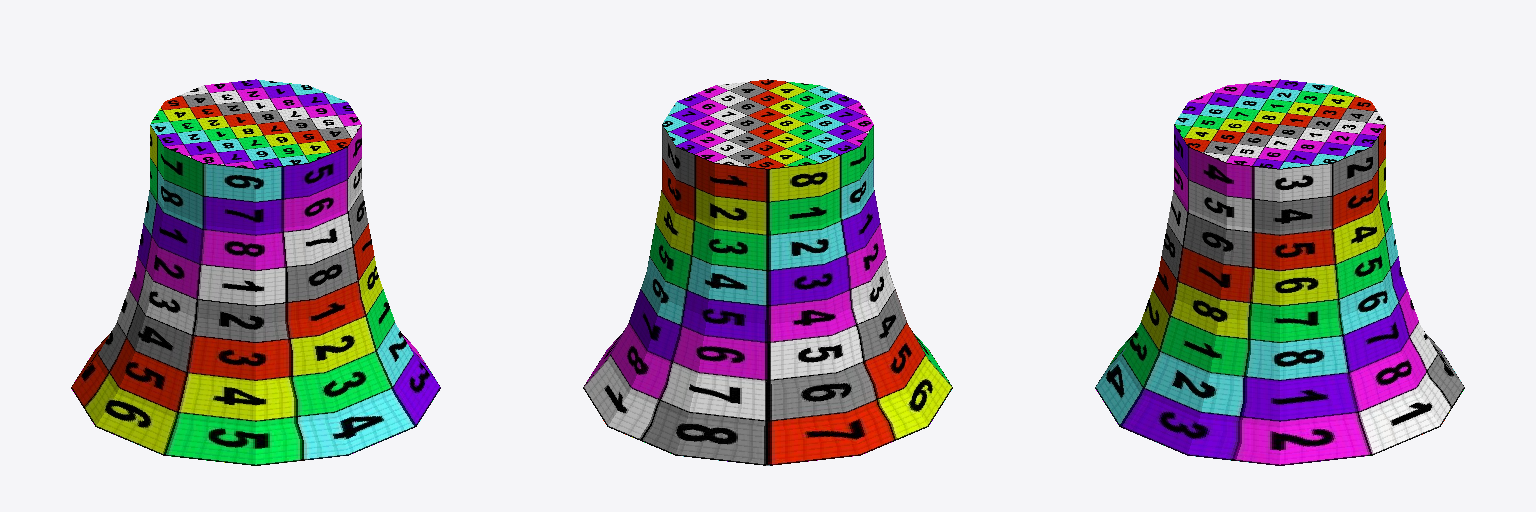
3 renders of one model, left to right at view 1: azimuth 30°, elevation 25°; view 2: azimuth 150°, elevation 25°; view 3: azimuth 270°, elevation 25°, orthographic.
Parts seen in each view (by area): view 1: pipe; view 2: pipe; view 3: pipe.
Part boxes in pixels (left/top/right/bottom): pipe: left=71, top=79, right=440, bottom=465; pipe: left=583, top=79, right=952, bottom=465; pipe: left=1095, top=79, right=1464, bottom=465.
Size of the model in its own units: 1.08 by 0.85 by 1.08.
1 materials, 1 textured.